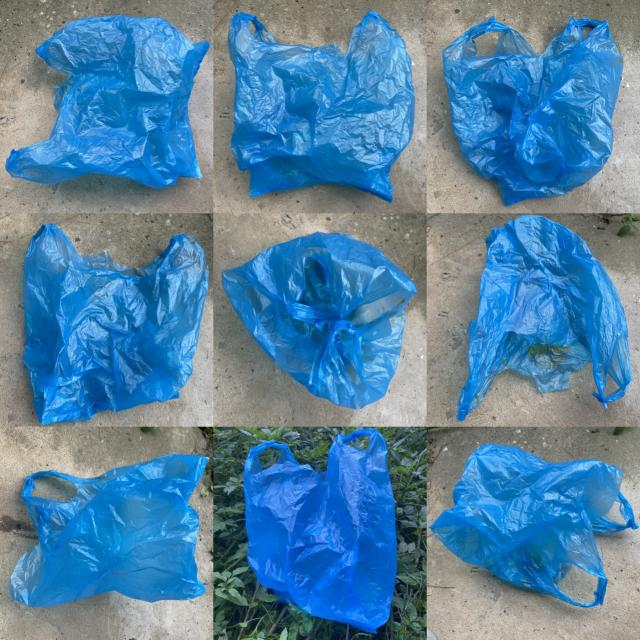Single-layer Plastic: (22, 224, 209, 424), (458, 215, 631, 421), (6, 15, 209, 189), (229, 11, 414, 201), (222, 232, 416, 409), (431, 444, 639, 608), (442, 18, 622, 204), (244, 429, 396, 632), (9, 454, 209, 606)
